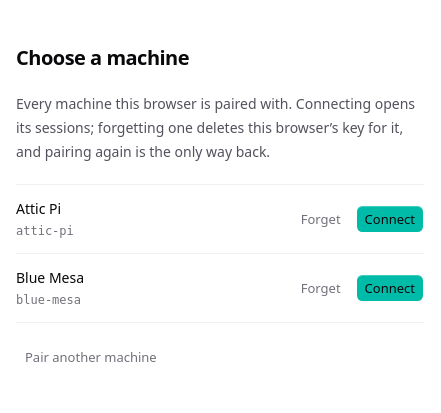
Test: the machine picker › keeps the row and says so when the key will not go
Click the button with aria-label "Forget Blue Mesa".
click(321, 288)  # box [292,274,350,302]
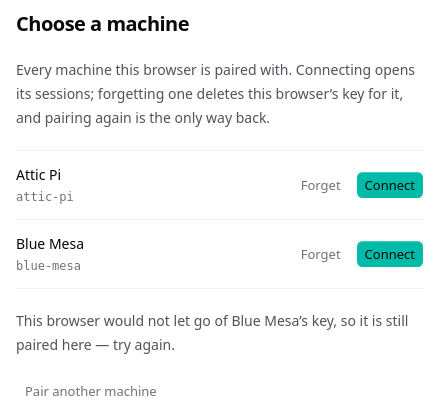
Expected: the text "Blue Mesa" is shown, [16,232,84,256]
Now the text "still paired here" is shown, box [16,310,408,354]
